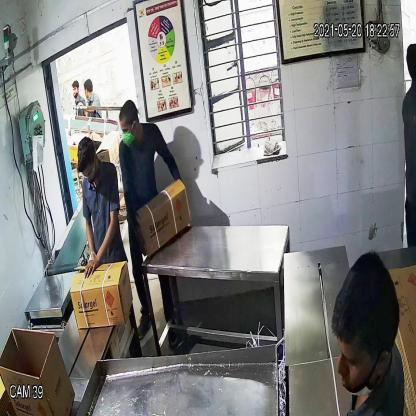no_goggles: (119, 122, 138, 138)
